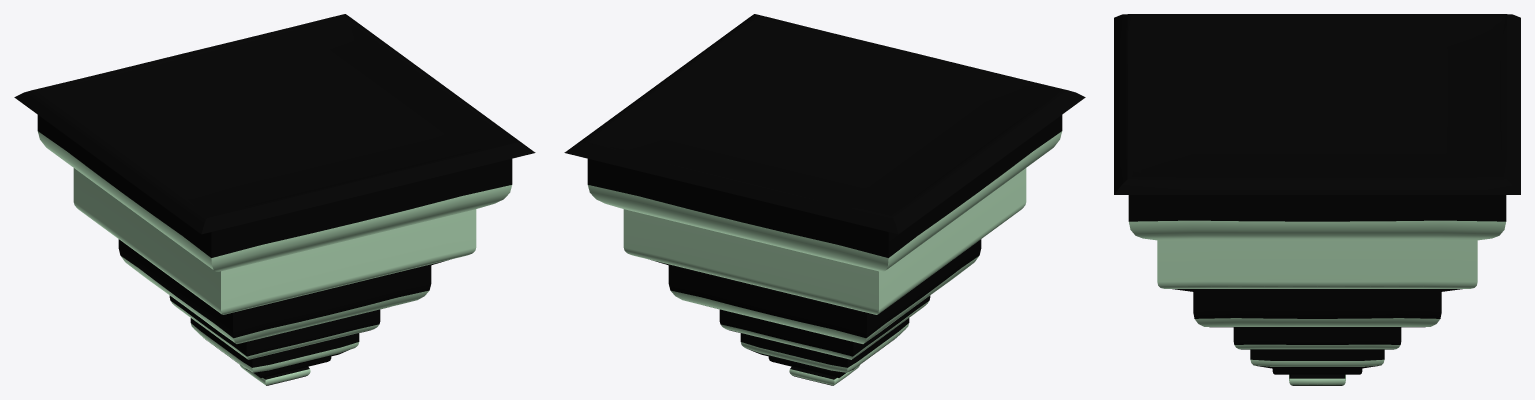
Rendered from SM_Island1.fbx.
3 views of the same model, side by side, from view 1: azimuth 30°, elevation 25°; view 2: azimuth 150°, elevation 25°; view 3: azimuth 270°, elevation 25° (orthographic). The views are drawn at different scales.
Visible parts, largest first — view 1: SM_Island1; view 2: SM_Island1; view 3: SM_Island1.
Part boxes in pixels (box(x1,y1,x2,y2)): SM_Island1: box(14, 14, 535, 385); SM_Island1: box(564, 14, 1085, 385); SM_Island1: box(1114, 14, 1520, 385).
Bounding box in the file's own units: 655 × 482 × 635.
